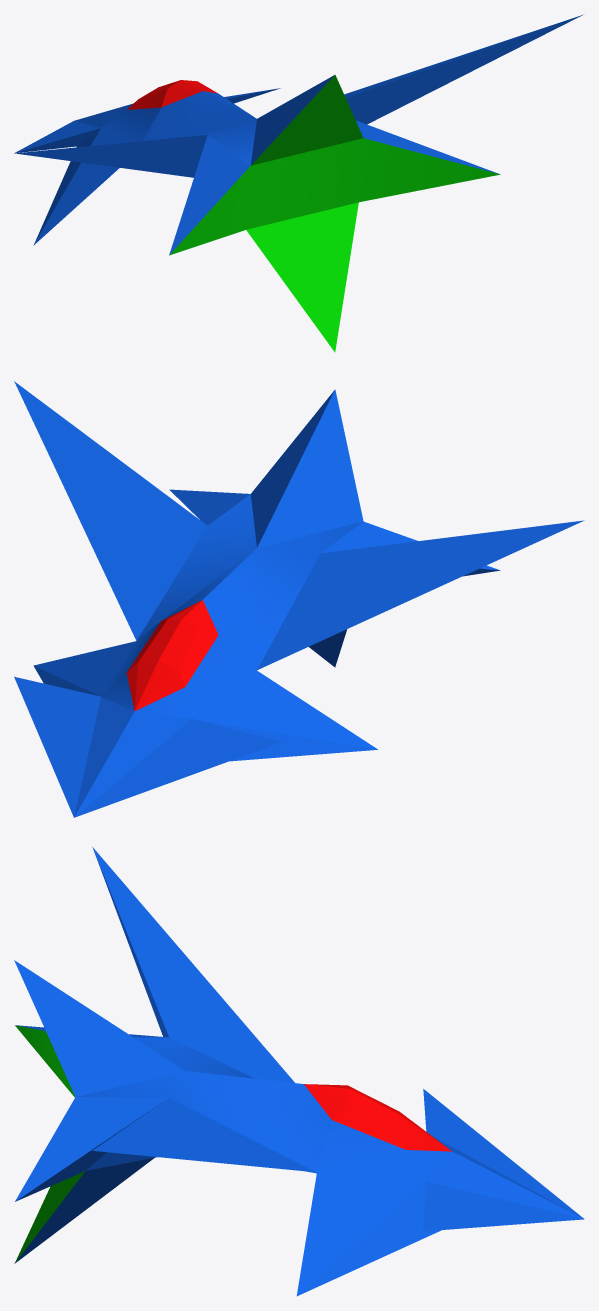
File: enemy2.fbx
The picture shows the model from 3 angles, top to bottom: view 1: azimuth 30°, elevation 25°; view 2: azimuth 150°, elevation 25°; view 3: azimuth 270°, elevation 25°; orthographic projection. The views are drawn at different scales.
Visible parts, largest first — view 1: pCube2; view 2: pCube2; view 3: pCube2.
Part boxes in pixels (x1,y1,x2,y2): pCube2: (14, 14, 583, 352); pCube2: (14, 381, 584, 817); pCube2: (14, 847, 584, 1296).
Bounding box in the file's own units: 34.29 × 15.98 × 27.18.
